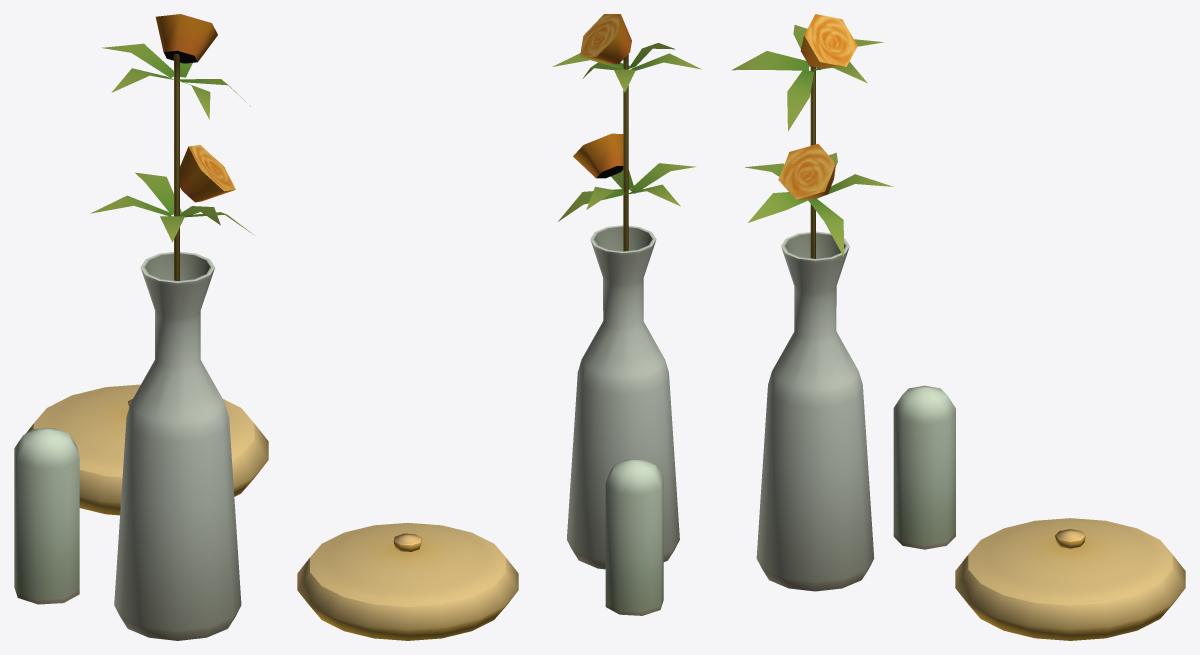
File: jia_daoju.FBX
3 renders of one model, left to right at view 1: azimuth 30°, elevation 25°; view 2: azimuth 150°, elevation 25°; view 3: azimuth 270°, elevation 25°, orthographic. The views are drawn at different scales.
Parts seen in each view (by area): view 1: jia_daoju; view 2: jia_daoju; view 3: jia_daoju.
Boxes of the visible parts, x1,y1,x2,y2 form: jia_daoju: [14, 14, 268, 640]; jia_daoju: [297, 14, 701, 640]; jia_daoju: [731, 14, 1185, 640].
Bounding box in the file's own units: 43.1 × 78.74 × 58.29.
